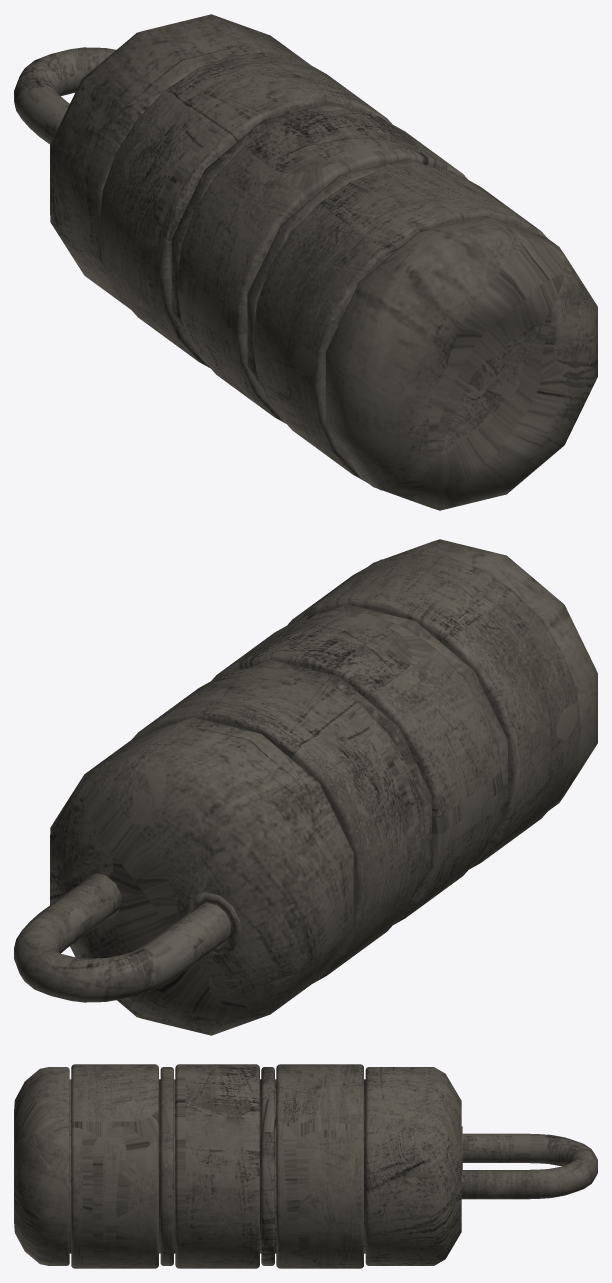
Rendered from LokerSafe2.fbx.
The picture shows the model from 3 angles, top to bottom: view 1: azimuth 30°, elevation 25°; view 2: azimuth 150°, elevation 25°; view 3: azimuth 270°, elevation 25°; orthographic projection. The views are drawn at different scales.
Parts seen in each view (by area): view 1: Circle.011, Circle.008, Circle.004, Circle.005, Circle.010; view 2: Circle.011, Circle.004, Circle.008, Circle.005, Circle.010; view 3: Circle.011, Circle.004, Circle.008, Circle.005, Circle.010.
Boxes of the visible parts, left/top/right/bottom form: Circle.011: left=50, top=14, right=597, bottom=510; Circle.008: left=252, top=165, right=546, bottom=490; Circle.004: left=98, top=52, right=391, bottom=367; Circle.005: left=176, top=109, right=467, bottom=423; Circle.010: left=14, top=47, right=116, bottom=144; Circle.011: left=50, top=539, right=597, bottom=1035; Circle.004: left=132, top=666, right=426, bottom=983; Circle.008: left=287, top=553, right=581, bottom=869; Circle.005: left=211, top=610, right=502, bottom=924; Circle.010: left=14, top=873, right=230, bottom=1002; Circle.011: left=14, top=1067, right=462, bottom=1265; Circle.004: left=276, top=1064, right=363, bottom=1268; Circle.008: left=71, top=1064, right=158, bottom=1268; Circle.005: left=175, top=1064, right=259, bottom=1268; Circle.010: left=461, top=1133, right=597, bottom=1199.
Bounding box in the file's own units: 15.42 × 15.42 × 43.91.
Materials: 1 (1 with a texture image).
